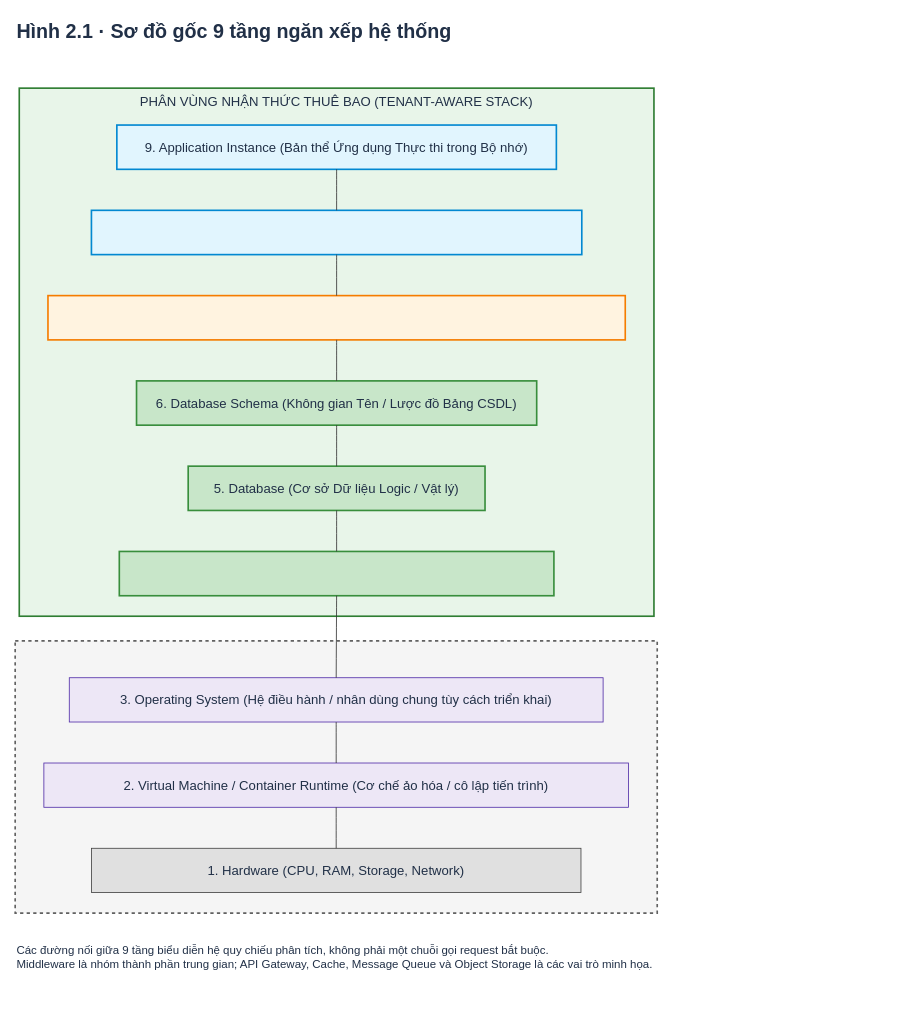
This 906x1033 diagram has some shape labels left out. Here are the shapes that lost their labels. From the top down, the box of each, then its label:
(90, 209, 582, 255): 8. Application Server (Môi trường thực thi ứng dụng)
(47, 294, 626, 340): 7. Middleware (API Gateway, Cache, Message Queue, Object Storage)
(118, 550, 554, 596): 4. Database Server (Tiến trình hệ quản trị CSDL)
(14, 640, 658, 913): PHÂN VÙNG HẠ TẦNG NỀN TẢNG (UNDERLYING INFRASTRUCTURE STACK)
